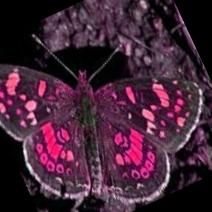butterfly: (0, 64, 203, 204)
